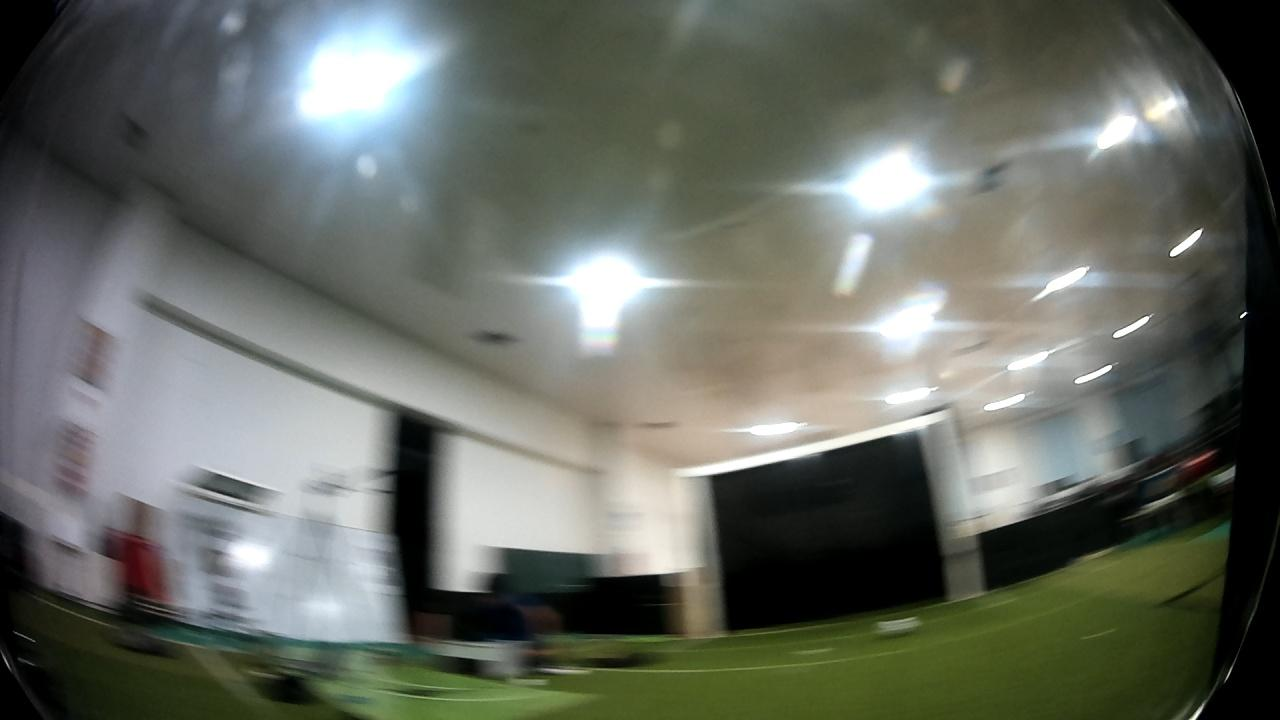ball: (876, 614, 926, 640)
